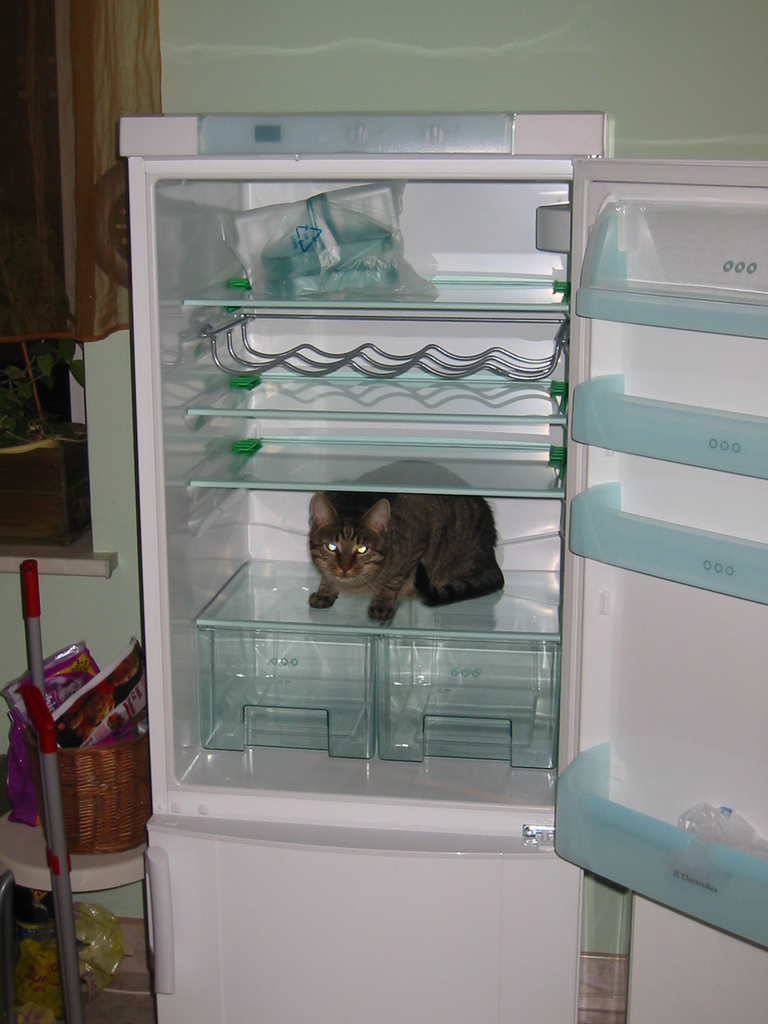handle: (135, 829, 186, 984)
refrigerator door: (593, 165, 768, 895), (148, 818, 566, 1024)
